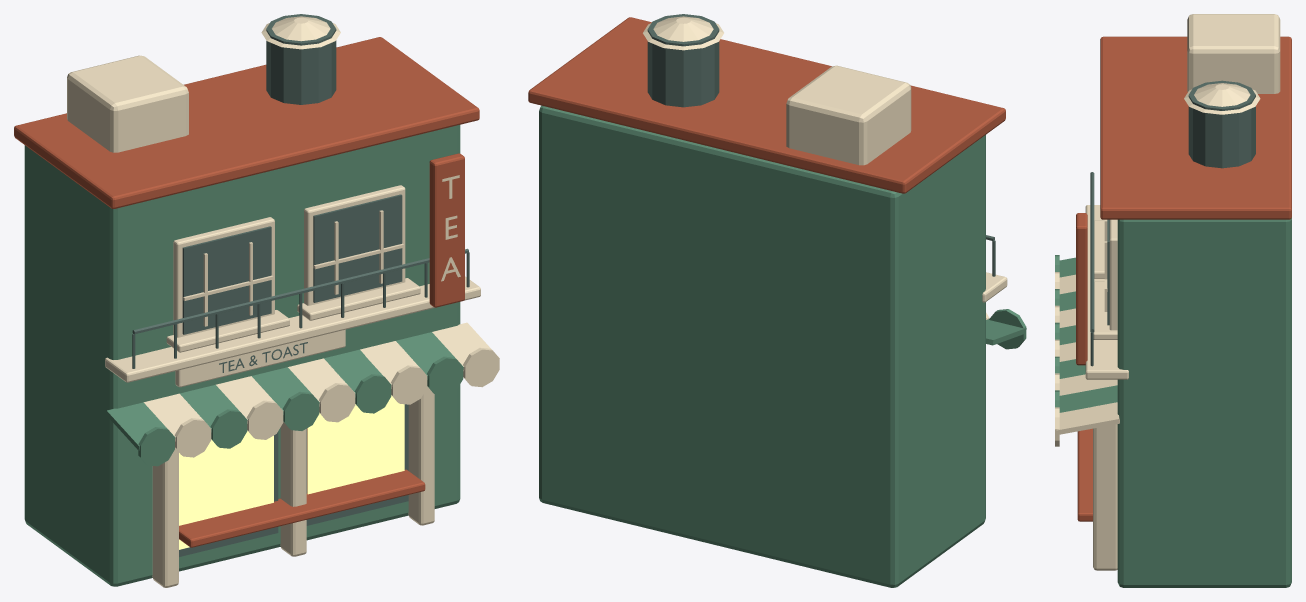
The model's file is tpe3_tea_balcony_7m.glb.
The picture shows the model from 3 angles, left to right: view 1: azimuth 30°, elevation 25°; view 2: azimuth 150°, elevation 25°; view 3: azimuth 270°, elevation 25°; orthographic projection. The views are drawn at different scales.
Visible parts, largest first — view 1: tpe3_tea_balcony_7m__tpe3-sage, tpe3_tea_balcony_7m__tpe3-ivory, tpe3_tea_balcony_7m__tpe3-terracotta, tpe3_tea_balcony_7m__tpe3-dark-timber, tpe3_tea_balcony_7m__tpe3-emissive-warm; view 2: tpe3_tea_balcony_7m__tpe3-sage, tpe3_tea_balcony_7m__tpe3-terracotta, tpe3_tea_balcony_7m__tpe3-ivory, tpe3_tea_balcony_7m__tpe3-dark-timber; view 3: tpe3_tea_balcony_7m__tpe3-sage, tpe3_tea_balcony_7m__tpe3-terracotta, tpe3_tea_balcony_7m__tpe3-ivory, tpe3_tea_balcony_7m__tpe3-dark-timber.
Part boxes in pixels (x1,y1,x2,y2): tpe3_tea_balcony_7m__tpe3-sage: (24, 125, 463, 586); tpe3_tea_balcony_7m__tpe3-ivory: (67, 16, 499, 587); tpe3_tea_balcony_7m__tpe3-terracotta: (14, 37, 479, 547); tpe3_tea_balcony_7m__tpe3-dark-timber: (132, 14, 469, 556); tpe3_tea_balcony_7m__tpe3-emissive-warm: (179, 395, 404, 549); tpe3_tea_balcony_7m__tpe3-sage: (539, 105, 1026, 587); tpe3_tea_balcony_7m__tpe3-terracotta: (528, 17, 1005, 193); tpe3_tea_balcony_7m__tpe3-ivory: (643, 16, 1007, 319); tpe3_tea_balcony_7m__tpe3-dark-timber: (647, 14, 995, 276); tpe3_tea_balcony_7m__tpe3-sage: (1055, 217, 1291, 587); tpe3_tea_balcony_7m__tpe3-terracotta: (1076, 36, 1291, 521); tpe3_tea_balcony_7m__tpe3-ivory: (1055, 14, 1280, 570); tpe3_tea_balcony_7m__tpe3-dark-timber: (1090, 80, 1255, 366).
Size of the model in its own units: 7.05 by 8.61 by 4.08.
